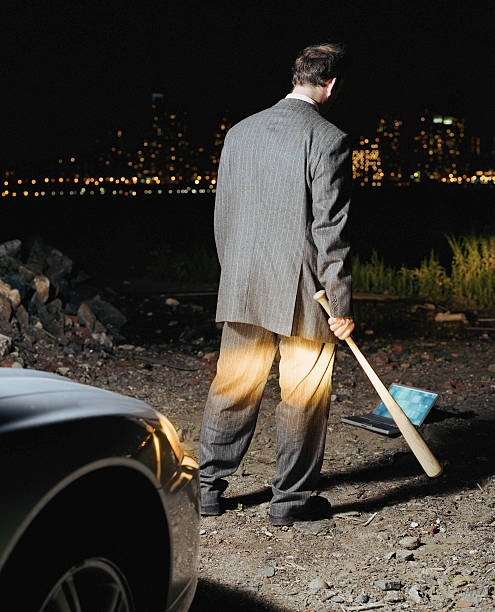bita: (317, 291, 444, 483)
